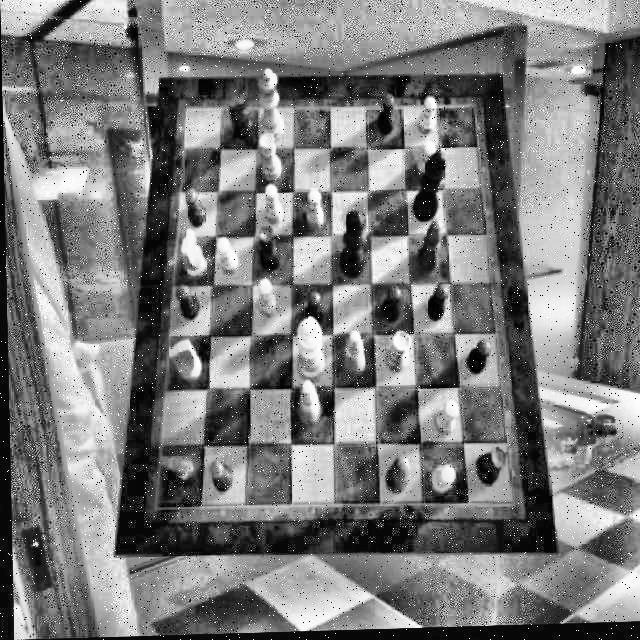black-bishop: (416, 220, 442, 275), (383, 458, 408, 496)
black-king: (411, 153, 448, 225)
black-knight: (156, 454, 193, 489), (228, 94, 253, 142)
black-pawn: (176, 285, 200, 322), (423, 287, 446, 324), (183, 191, 204, 230), (466, 341, 489, 376), (208, 463, 232, 496), (304, 292, 324, 330), (381, 288, 401, 326), (377, 96, 395, 138)
black-queen: (338, 213, 366, 281)
black-rook: (474, 450, 507, 490), (258, 226, 282, 272)
white-bishop: (296, 382, 320, 428), (340, 333, 364, 379)
white-king: (295, 319, 323, 386)
white-knight: (166, 340, 201, 383), (179, 229, 204, 281)
white-pawn: (432, 402, 457, 437), (215, 239, 238, 276), (416, 99, 437, 138), (256, 280, 276, 318), (415, 144, 435, 182), (264, 187, 282, 226), (305, 192, 323, 231), (429, 468, 454, 496)
white-queen: (258, 69, 284, 144)
white-rook: (258, 137, 282, 185), (383, 334, 408, 376)
